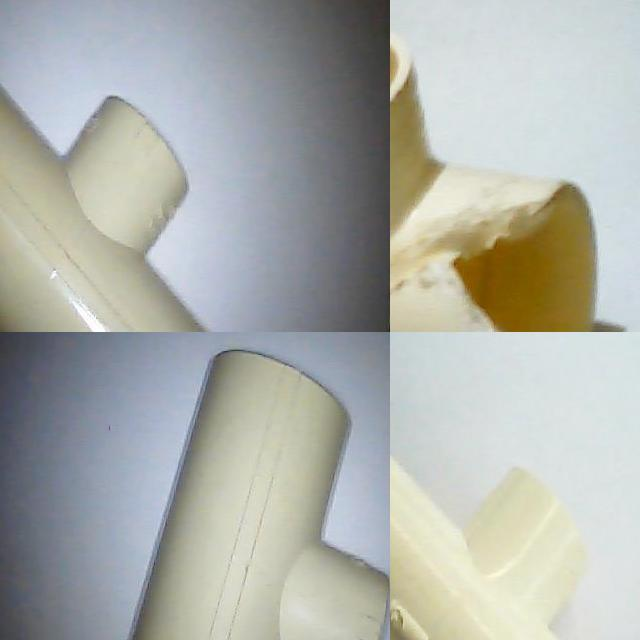Defective: (402, 214, 555, 332)
T Joint: (126, 349, 390, 640), (390, 33, 598, 332), (0, 86, 209, 332), (390, 457, 590, 640)
